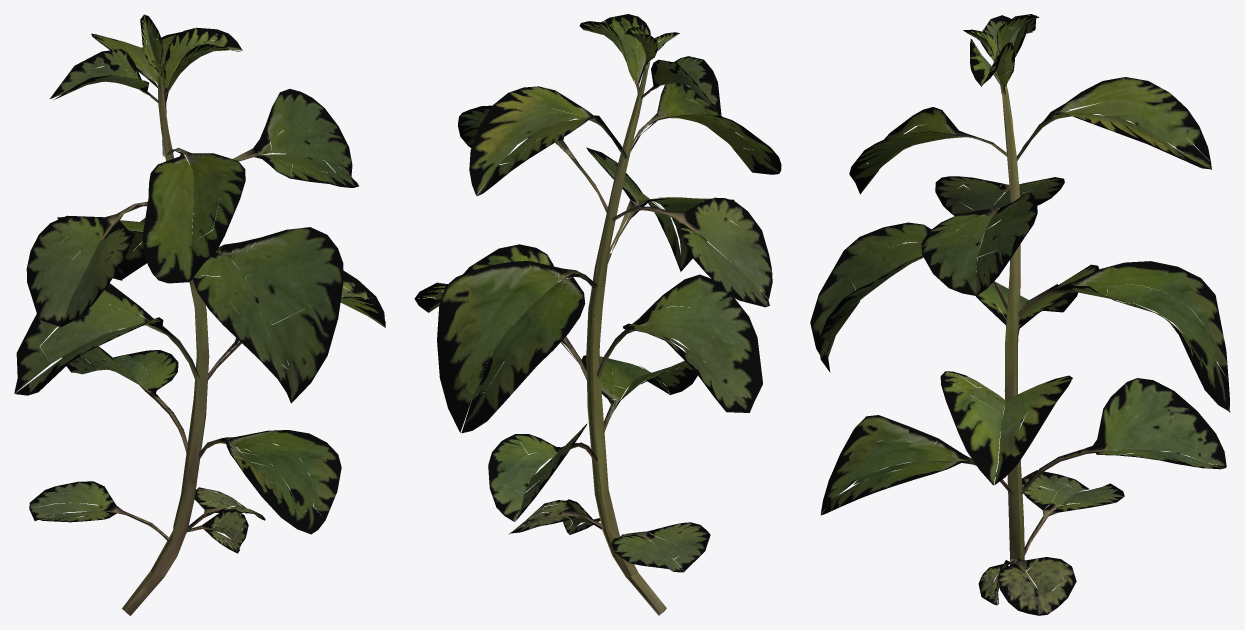
The model's file is nettle_plant_v2.glb.
The picture shows the model from 3 angles, left to right: view 1: azimuth 30°, elevation 25°; view 2: azimuth 150°, elevation 25°; view 3: azimuth 270°, elevation 25°; orthographic projection. The views are drawn at different scales.
Parts seen in each view (by area): view 1: lod0; view 2: lod0; view 3: lod0.
Boxes of the visible parts, <box> form: lod0: <box>14,14,385,615</box>; lod0: <box>414,14,781,615</box>; lod0: <box>810,14,1230,615</box>.
Size of what is drawn, in the model's own units: 0.0655 by 0.1047 by 0.0662.
1 material, 1 textured.
